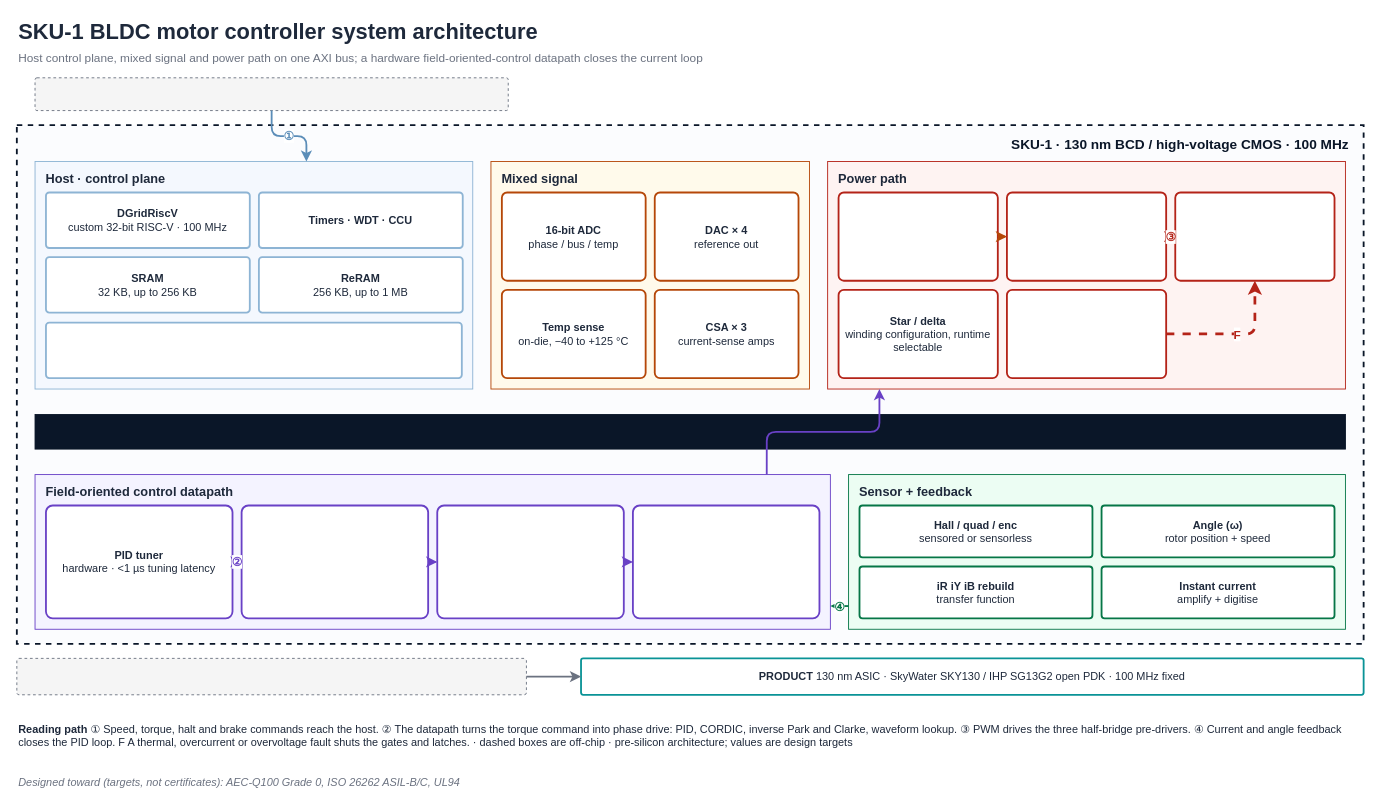
This 1380x808 diagram has some shape labels left out. The centre of each missing label's shape, as x and y in pixels:
AXI bus · memory-mapped register file · 100 MHz: (689,431)
B-B converter buck-boost, PWM-pin driven: (917,236)
d,q → 3-phase inverse Park + Clarke: (530,561)
Host interfaces I²C slave · UART × 4 · SPI · CAN-FD × 2 · JTAG: (253,350)
Pre-drivers R / Y / B 3 half-bridges · clock gating per phase: (1254,236)
Protection thermal · overcurrent · overvoltage → gate shutdown, latched: (1086,333)
PROTOTYPE Artix-7 FPGA · 81.25 MHz · validation only: (271,676)
PWM × 7 up to 200 kHz · 6 bridge + 1 aux: (1086,236)
Rect → polar CORDIC · magnitude + angle: (334,561)
Sine / trapezoid lookup tables · sinusoidal or 6-step: (726,561)
Speed (rpm) · torque · halt · brake · ramp up / down (host commands): (271,94)
